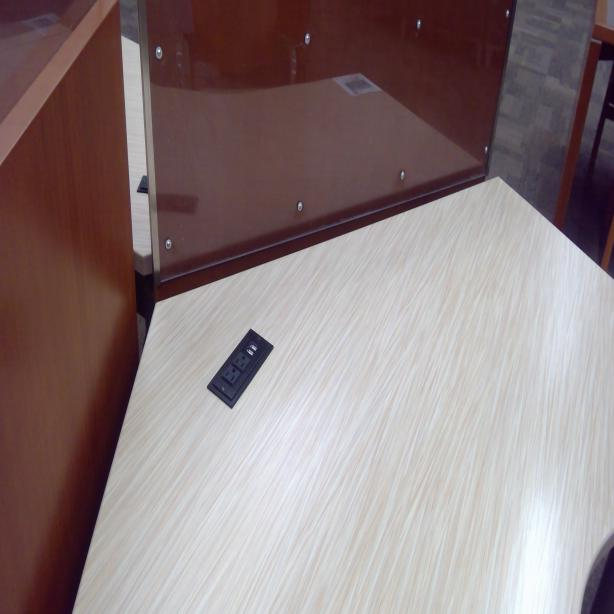typeb: (224, 366, 239, 387), (234, 353, 248, 369)
